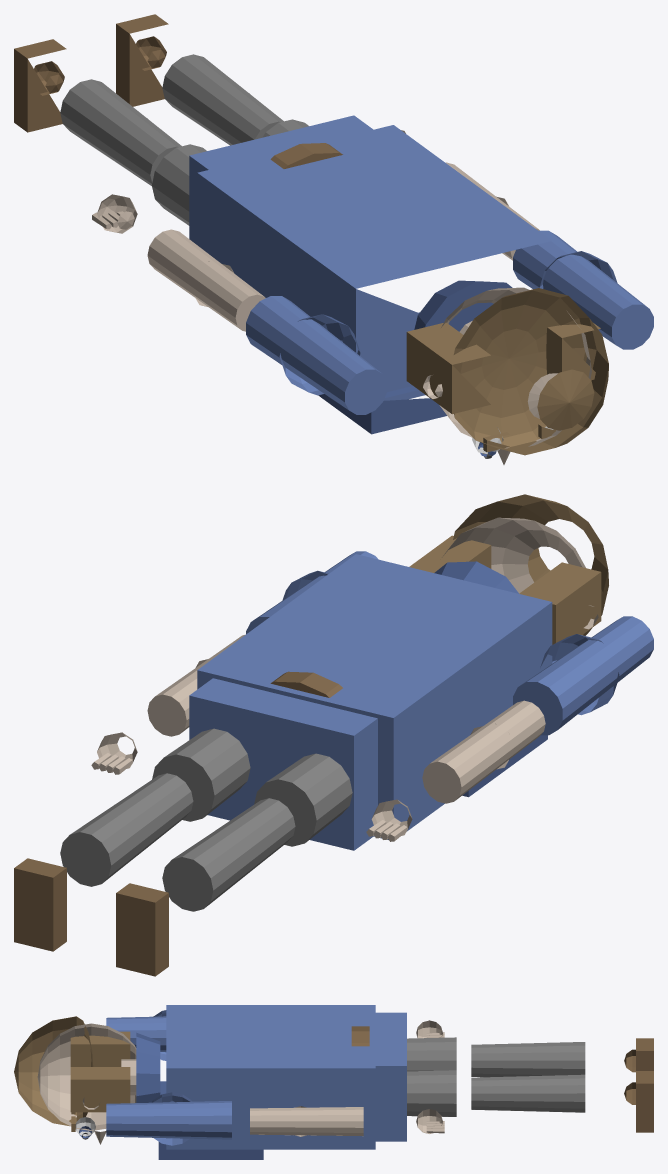
Rendered from humanoid.glb.
3 renders of one model, top to bottom at view 1: azimuth 30°, elevation 25°; view 2: azimuth 150°, elevation 25°; view 3: azimuth 270°, elevation 25°, orthographic. The views are drawn at different scales.
Visible parts, largest first — view 1: geometry_0; view 2: geometry_0; view 3: geometry_0.
Part boxes in pixels (bbox=[...]): geometry_0: bbox=[14, 14, 653, 464]; geometry_0: bbox=[14, 494, 653, 976]; geometry_0: bbox=[14, 1005, 653, 1159].
Size of the model in its own units: 0.84 by 0.4552 by 2.14.
